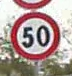limite 50: (9, 11, 60, 61)
